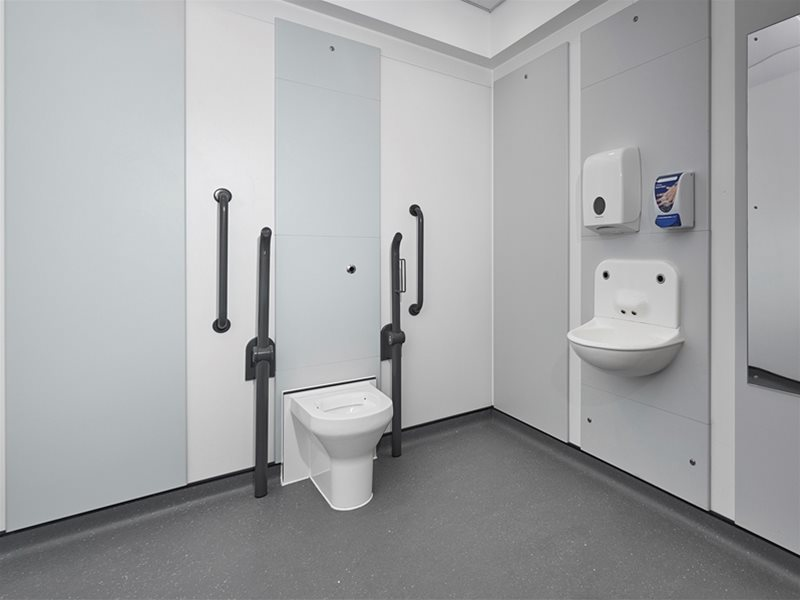dispenser: (652, 170, 697, 232)
restroom_assist_bar: (246, 227, 279, 502), (381, 231, 409, 459), (214, 186, 233, 331), (406, 204, 429, 315)
sink: (560, 319, 684, 378)
toilet: (283, 377, 396, 511)
